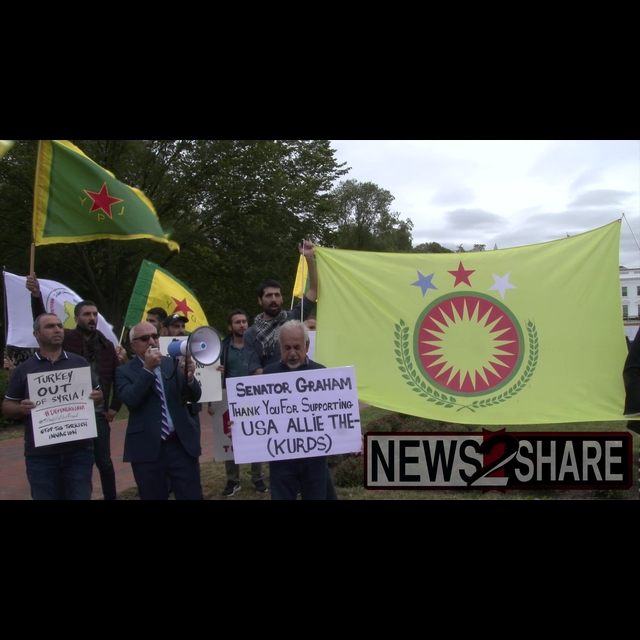YPJ: (73, 181, 130, 222)
